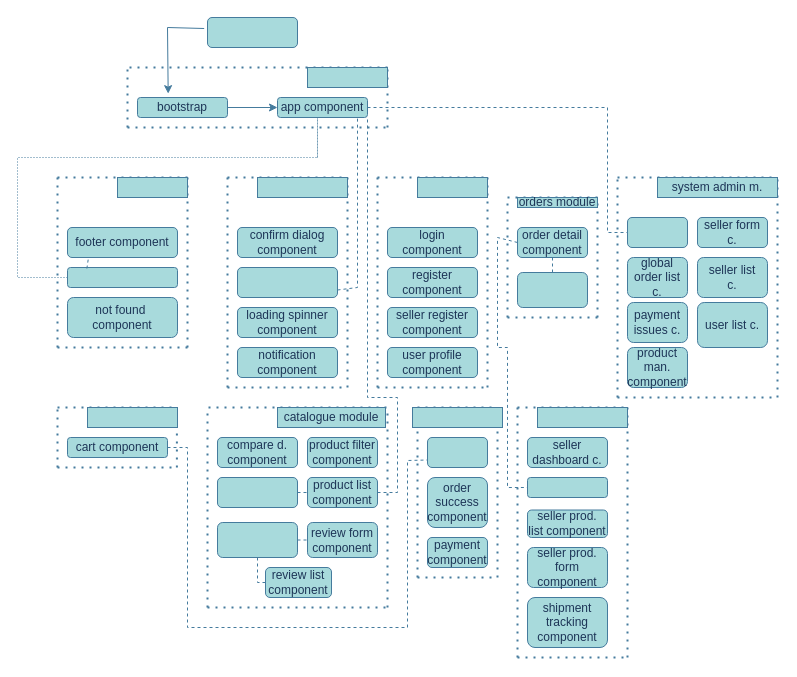
This 797x677 diagram has some shape labels left out. Here are the shapes that lost their labels. From the top down, the centre of each, then its label:
At point 252,32: "app (bootstrap)".
At point 347,77: "app madule".
At point 152,187: "core module".
At point 302,187: "shared module".
At point 452,187: "auth module".
At point 657,232: "dashboard component".
At point 122,277: "header component".
At point 287,282: "error alert component".
At point 552,290: "order history component".
At point 132,417: "cart module".
At point 457,417: "checout module".
At point 582,417: "seller dahs. m.".
At point 457,452: "checkout component".
At point 257,492: "product card component".
At point 567,487: "seller or. list c.".
At point 257,540: "product det. component".
